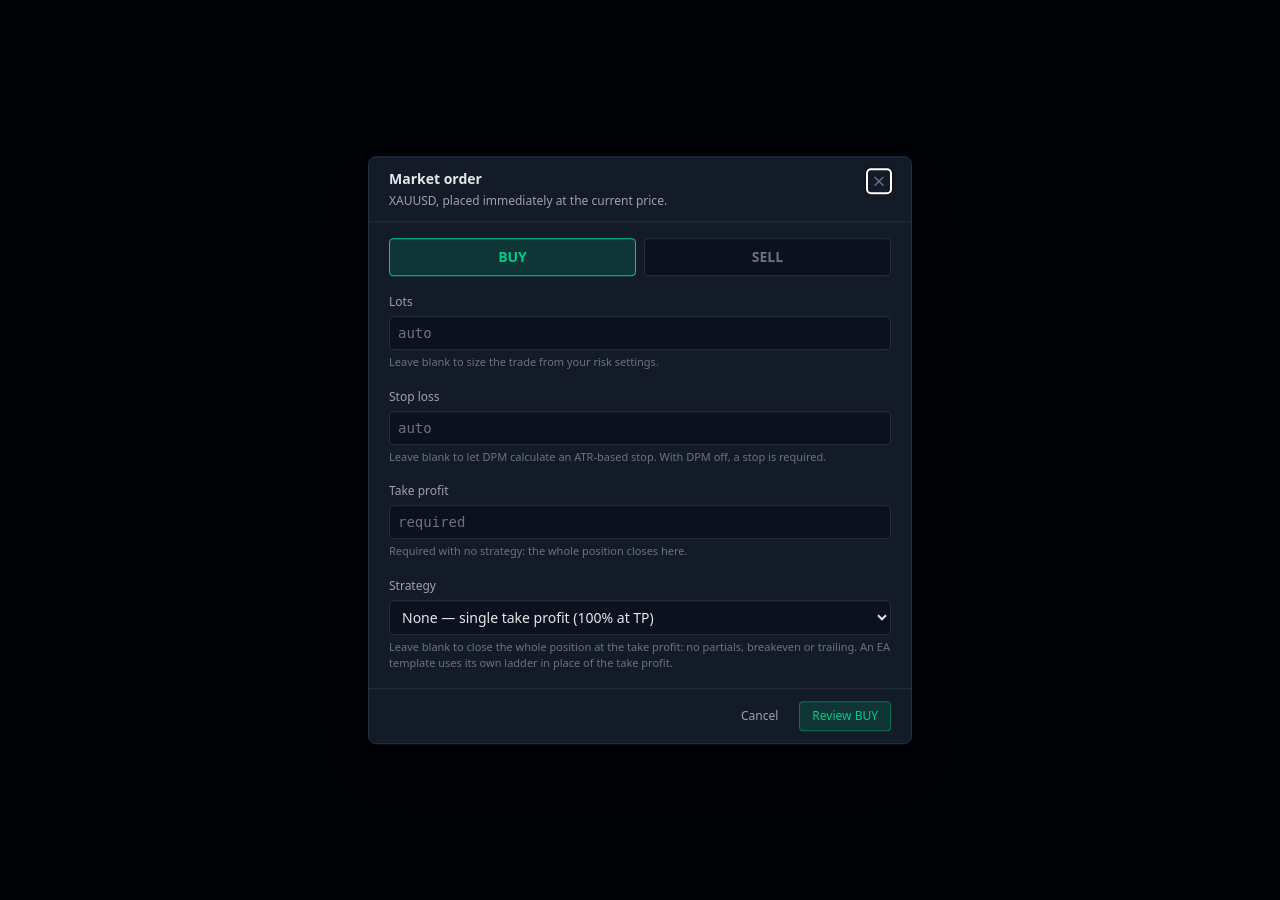
it: the market order › says on the confirm step how the position will be managed
Click the button "Review BUY" at (845, 716), box x1=799 y1=701 x2=891 y2=731
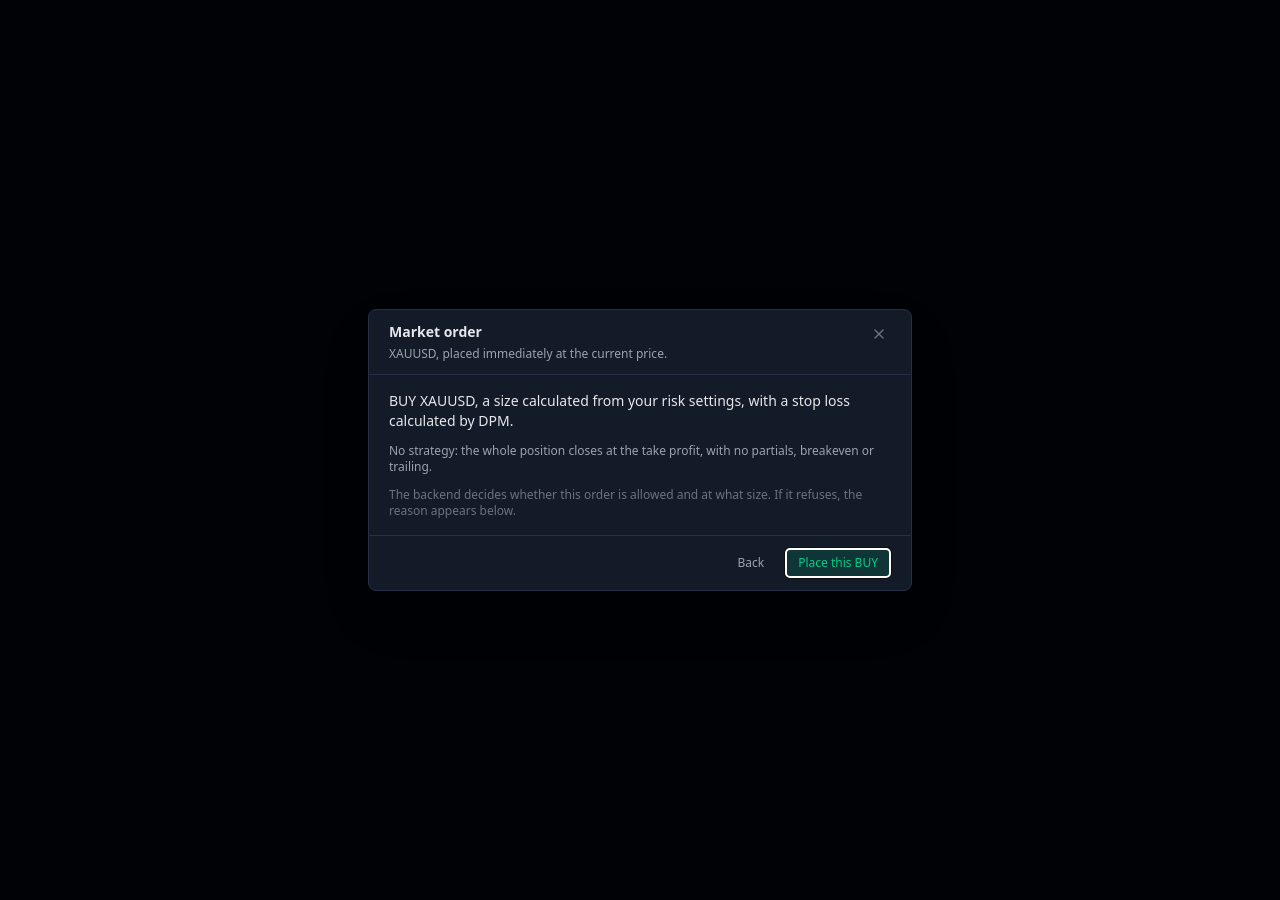
Result: the text with test id "order-management" shows "closes at the take profit" at x1=389 y1=442 x2=874 y2=475
Click the button "Back" at (751, 563), box x1=724 y1=548 x2=777 y2=578
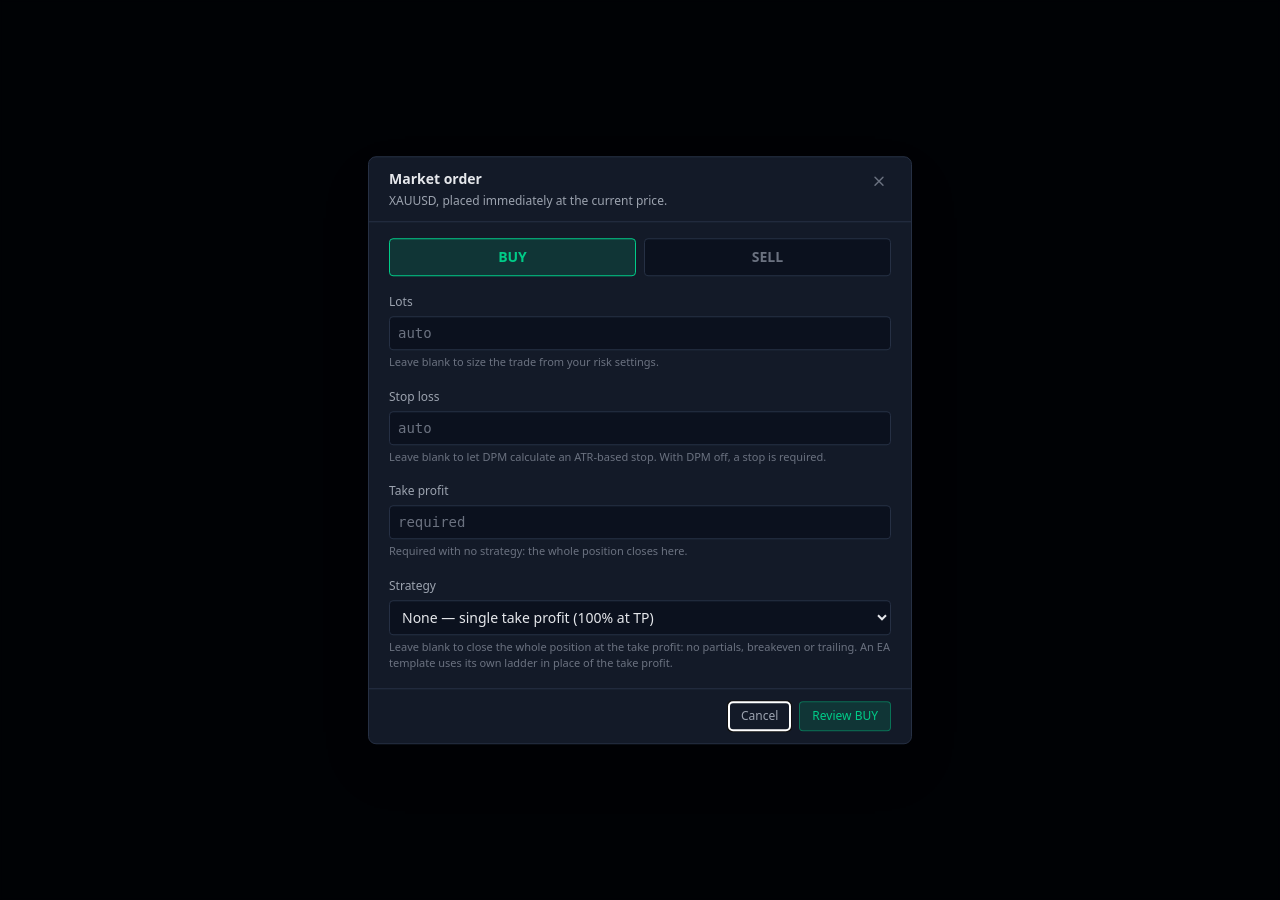
Select "Scale Out + Breakeven" in the dropdown labelled "Strategy" at (640, 617), box x1=389 y1=600 x2=891 y2=635
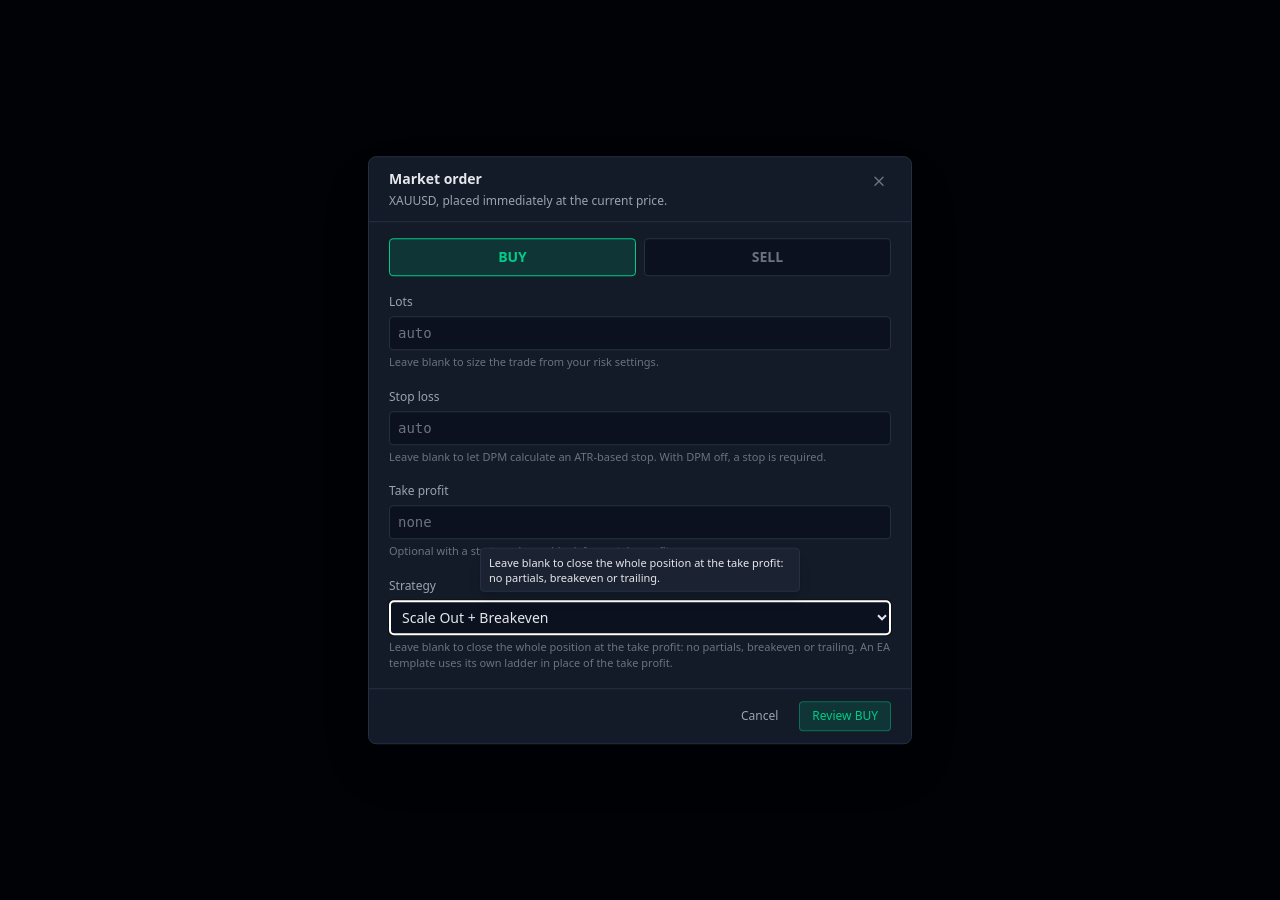
Click the button "Review BUY" at (845, 716), box x1=799 y1=701 x2=891 y2=731
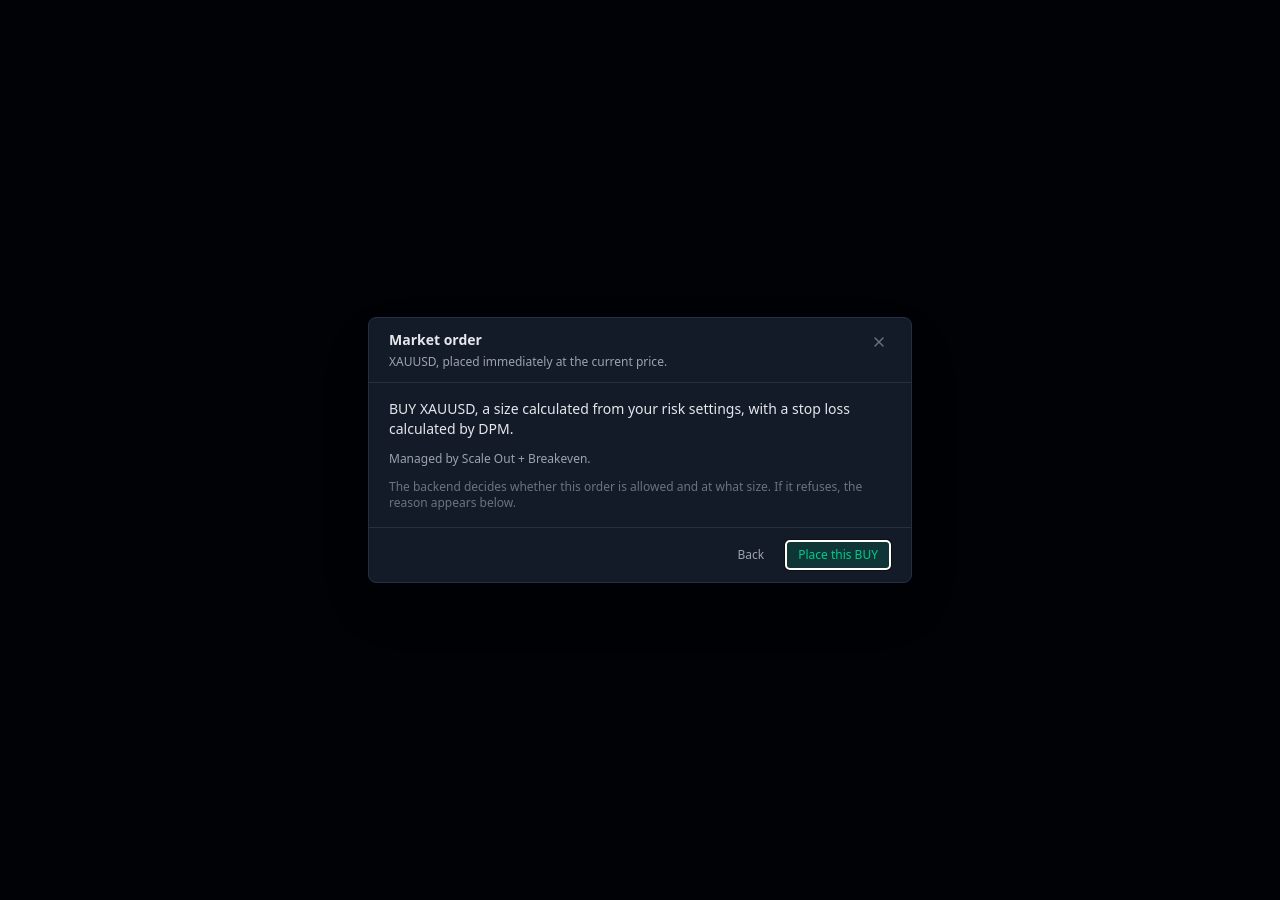
Result: the text with test id "order-management" shows "Managed by Scale Out + Breakeven" at x1=389 y1=450 x2=590 y2=467
